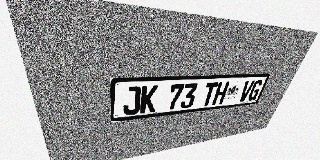3: (180, 83, 198, 109)
7: (166, 84, 185, 110)
G: (246, 80, 264, 101)
H: (212, 82, 230, 105)
J: (123, 86, 141, 116)
K: (140, 85, 158, 114)
T: (200, 82, 219, 106)
V: (237, 80, 255, 102)
